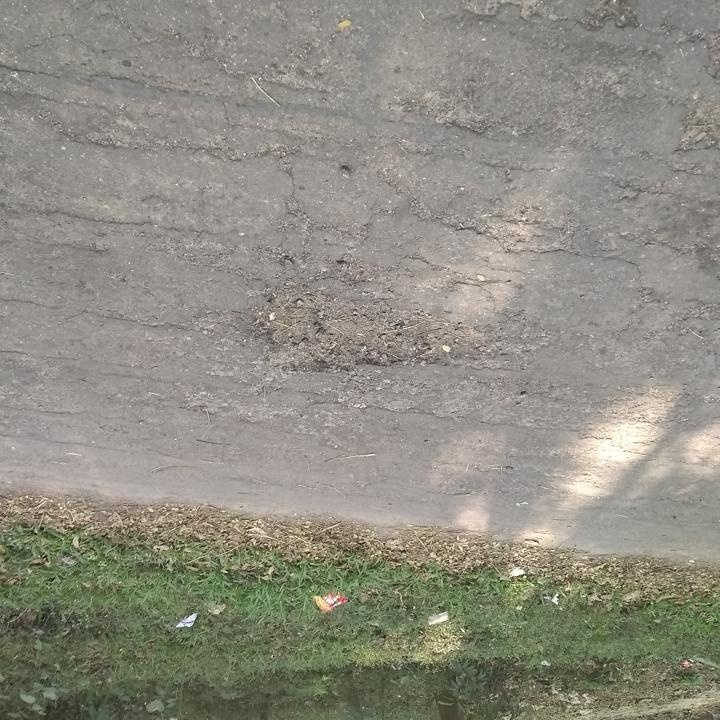pothole: (240, 280, 491, 375)
